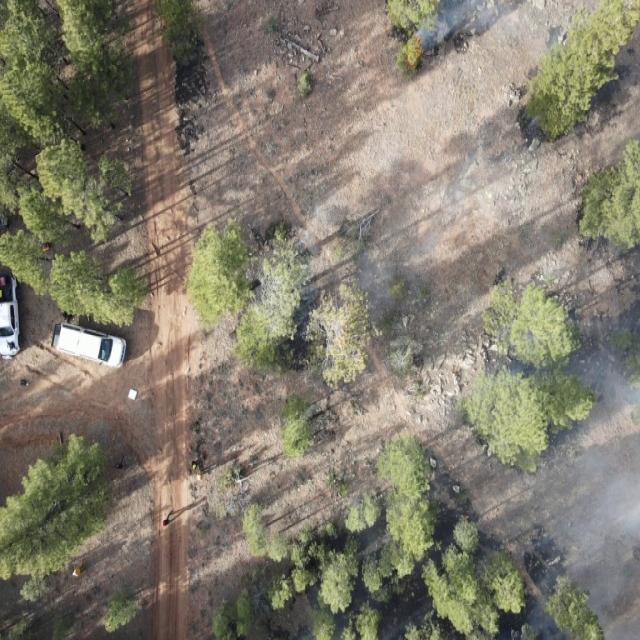fire: (401, 30, 429, 74)
smoke: (484, 310, 640, 640), (261, 200, 452, 360), (346, 517, 484, 640), (416, 0, 578, 66)
